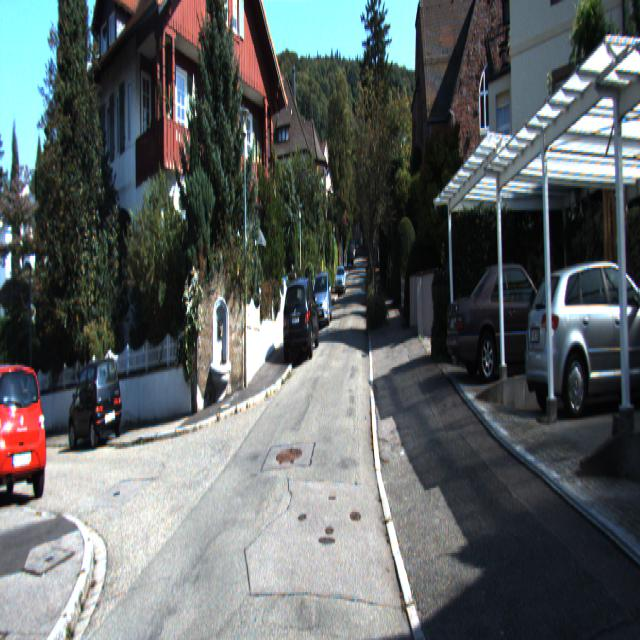Car: (520, 253, 640, 422), (448, 257, 580, 388), (0, 358, 51, 514), (68, 351, 123, 466), (282, 273, 320, 364), (311, 269, 332, 325), (336, 266, 346, 295)
